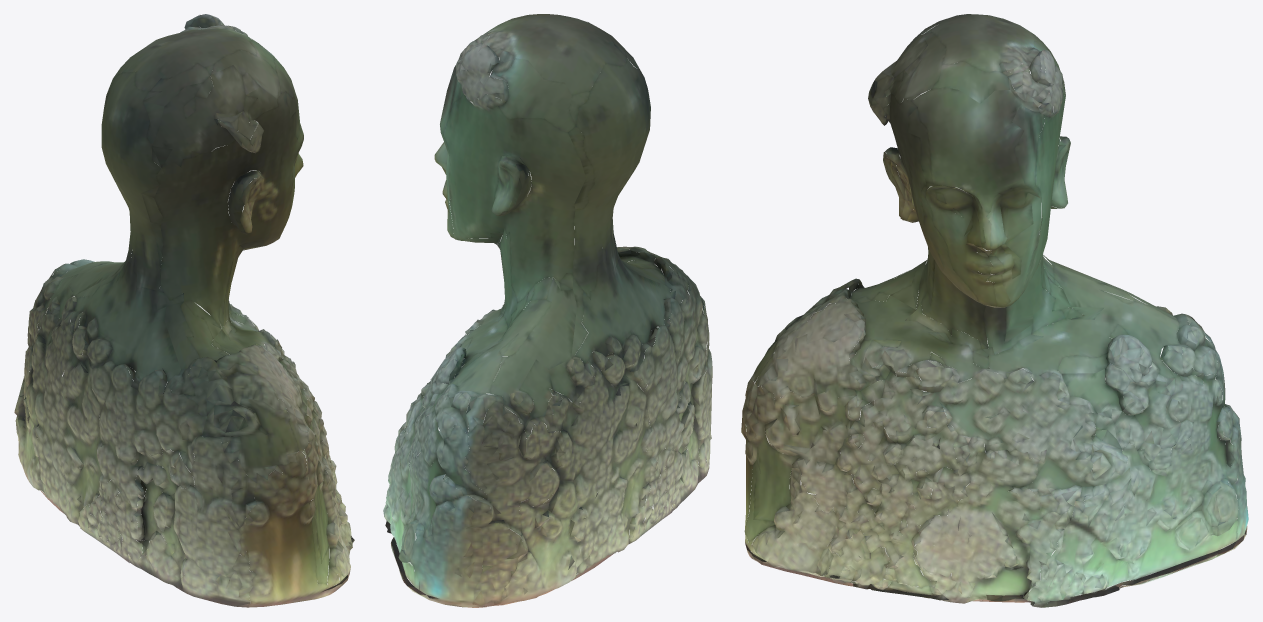
The model's file is Statue1_LOD1.glb.
3 views of the same model, side by side, from view 1: azimuth 30°, elevation 25°; view 2: azimuth 150°, elevation 25°; view 3: azimuth 270°, elevation 25° (orthographic). The views are drawn at different scales.
Parts seen in each view (by area): view 1: Statue 1.001_LOD1; view 2: Statue 1.001_LOD1; view 3: Statue 1.001_LOD1.
Part boxes in pixels (x1,y1,x2,y2): Statue 1.001_LOD1: (14,14,354,607); Statue 1.001_LOD1: (383,14,712,607); Statue 1.001_LOD1: (741,14,1248,607).
Bounding box in the file's own units: 0.2594 × 0.52 × 0.4611.
1 material, 1 textured.
